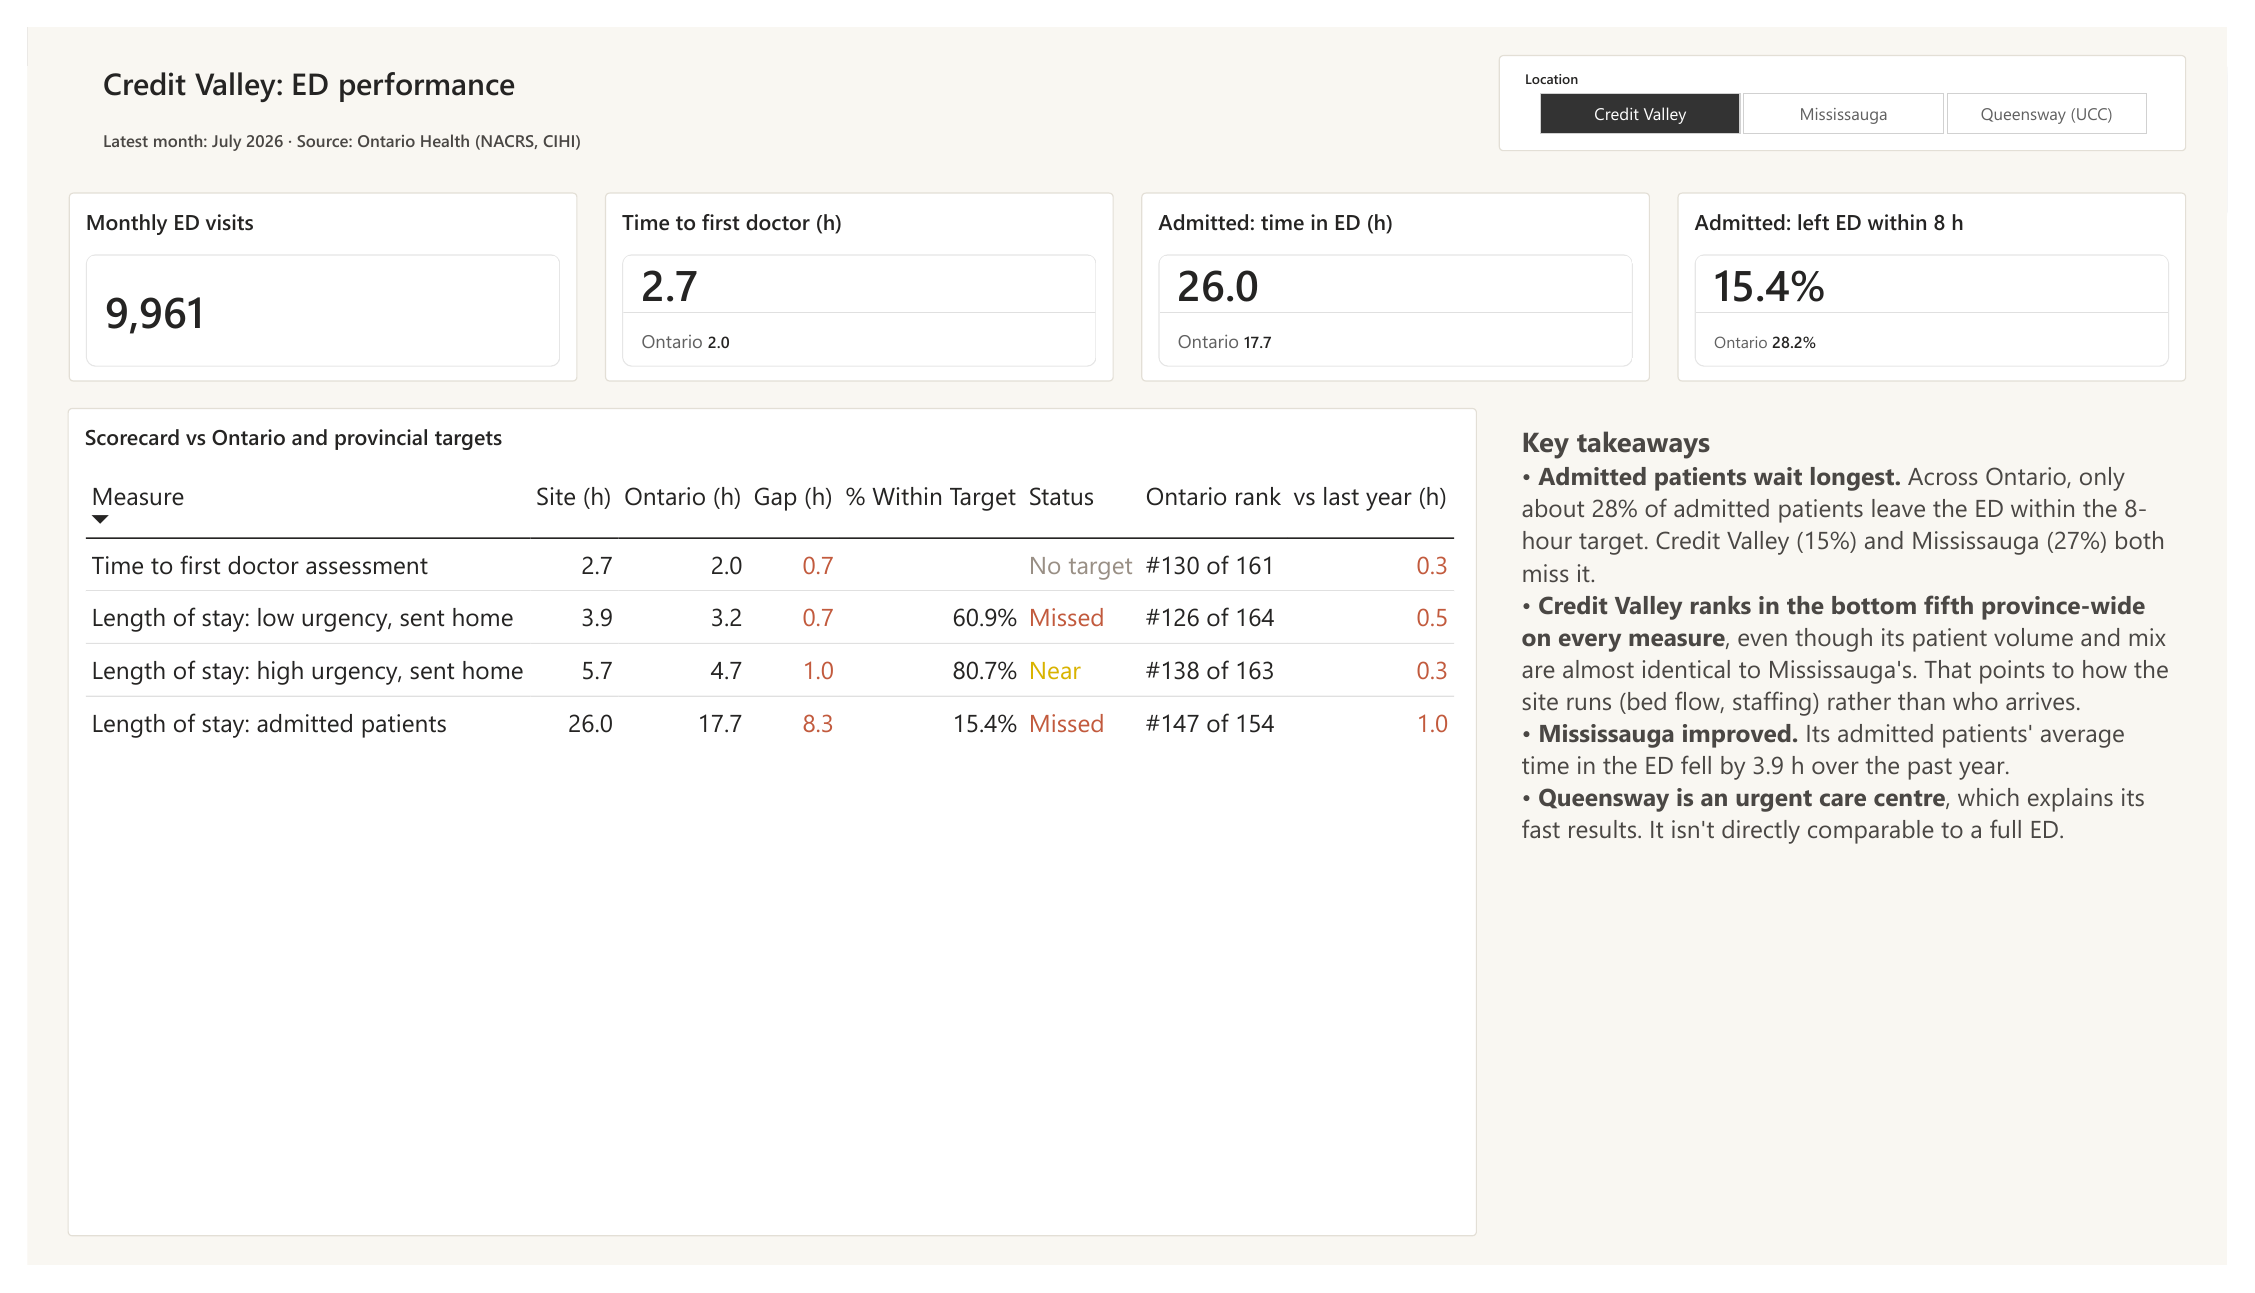

This screenshot's page, from the dashboard's own definition file:
{"tool":"powerbi","page":{"name":"Scorecard","canvas":[1920,1080],"ordinal":0},"visuals":[{"type":"cardVisual","fields":{"Data":["_Measures.Site Title"]},"box":[36,18,630,60],"z":0},{"type":"cardVisual","fields":{"Data":["_Measures.Page Subtitle"]},"box":[36,78,630,42],"z":1000},{"type":"slicer","fields":{"Values":["ED_Trends.Location"]},"box":[1284,24,600,84],"z":2000},{"type":"cardVisual","title":"Monthly ED visits","fields":{"Data":["_Measures.Visits Display"]},"box":[36,144,444,165],"z":3000},{"type":"cardVisual","title":"Time to first doctor (h)","fields":{"Data":["_Measures.Latest Avg Hours"]},"box":[504,144,444,165],"z":4000},{"type":"cardVisual","title":"Admitted: time in ED (h)","fields":{"Data":["_Measures.Latest Avg Hours"]},"box":[972,144,444,165],"z":5000},{"type":"cardVisual","title":"Admitted: left ED within 8 h","fields":{"Data":["_Measures.Latest % Within Target"]},"box":[1440,144,444,165],"z":6000},{"type":"tableEx","title":"Scorecard vs Ontario and provincial targets","fields":{"Values":["Measure_Info.Measure_Label","_Measures.Latest Avg Hours","_Measures.Ontario Latest Avg Hours","_Measures.Gap vs Ontario (h)","_Measures.Latest % Within Target","_Measures.Target Status","_Measures.Rank Label","_Measures.Change vs 12 Months Earlier (h)"]},"box":[35.2,332.3,1230,723],"z":7000},{"type":"textbox","box":[1290,333,594,723],"z":8000}]}

Visuals, with their boxes in screenshot pixels (x1, y1, x2, y2), scaled from the page's 1920x1080 canvas onto the 2255x1293 screenshot:
cardVisual - _Measures.Site Title: (42, 22, 782, 93)
cardVisual - _Measures.Page Subtitle: (42, 93, 782, 144)
slicer - ED_Trends.Location: (1508, 29, 2213, 129)
"Monthly ED visits" cardVisual: (42, 172, 564, 370)
"Time to first doctor (h)" cardVisual: (592, 172, 1113, 370)
"Admitted: time in ED (h)" cardVisual: (1142, 172, 1663, 370)
"Admitted: left ED within 8 h" cardVisual: (1691, 172, 2213, 370)
"Scorecard vs Ontario and provincial targets" tableEx: (41, 398, 1486, 1263)
textbox: (1515, 399, 2213, 1264)
